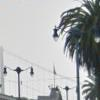Palm tree: (57, 2, 100, 91)
